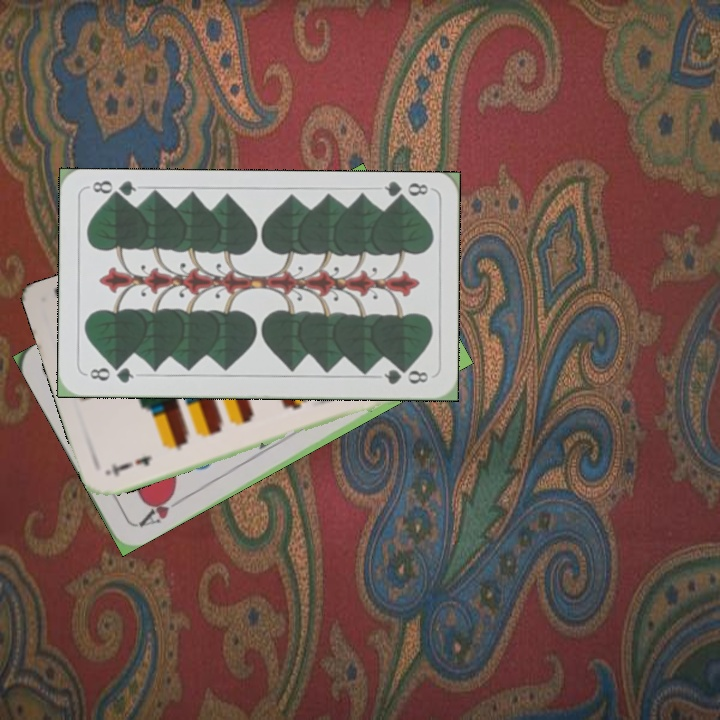E7: (104, 451, 155, 480)
G8: (380, 178, 430, 206), (82, 362, 136, 386)
HA: (134, 487, 187, 531)
